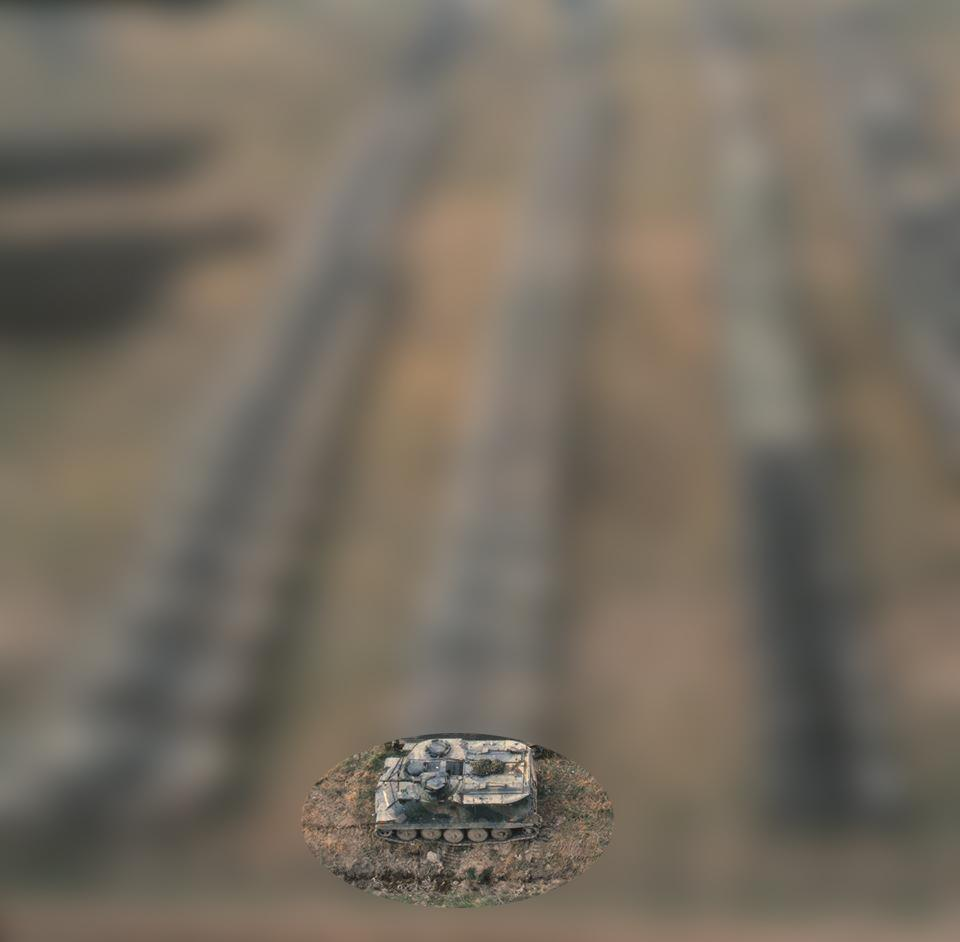armored_car: (363, 730, 554, 850)
